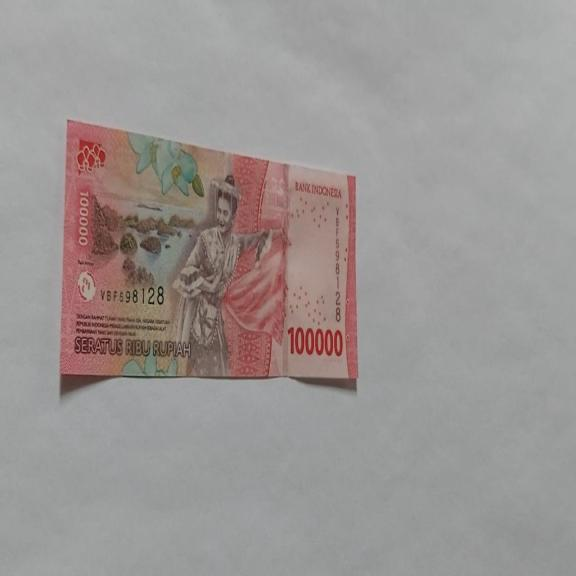Kertas: (60, 118, 358, 386), (287, 324, 344, 358)
